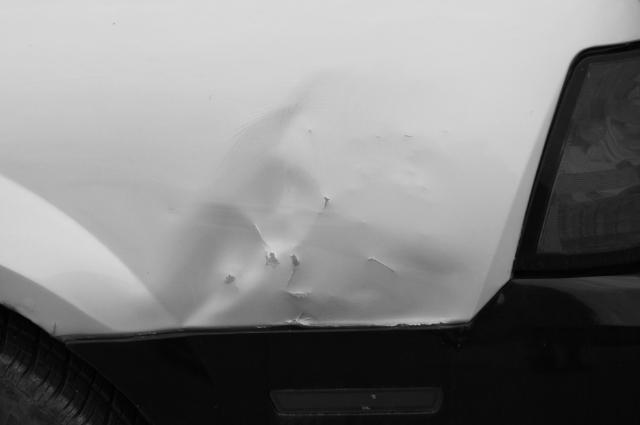Fender: (36, 59, 542, 358)
